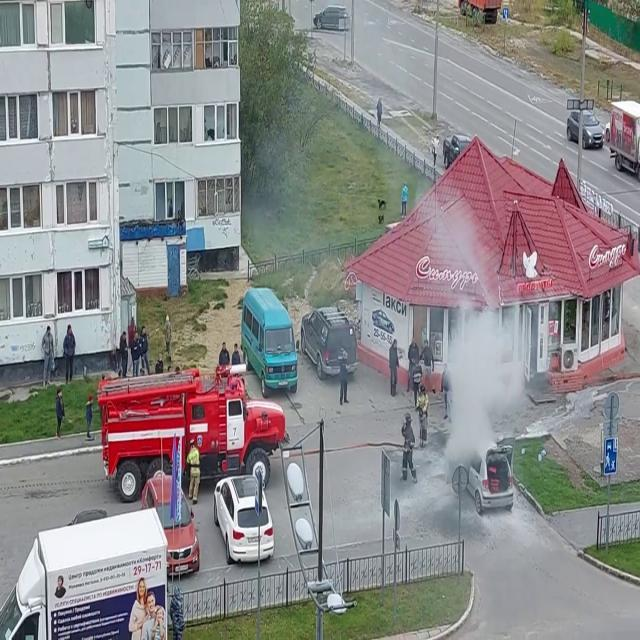Smoke: (438, 292, 533, 474)
